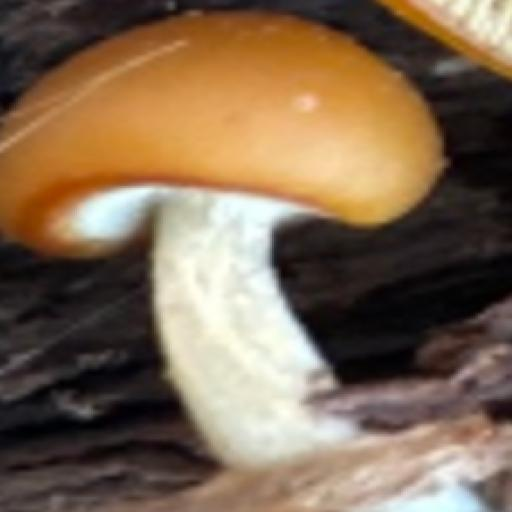mushroom: (1, 6, 454, 394)
